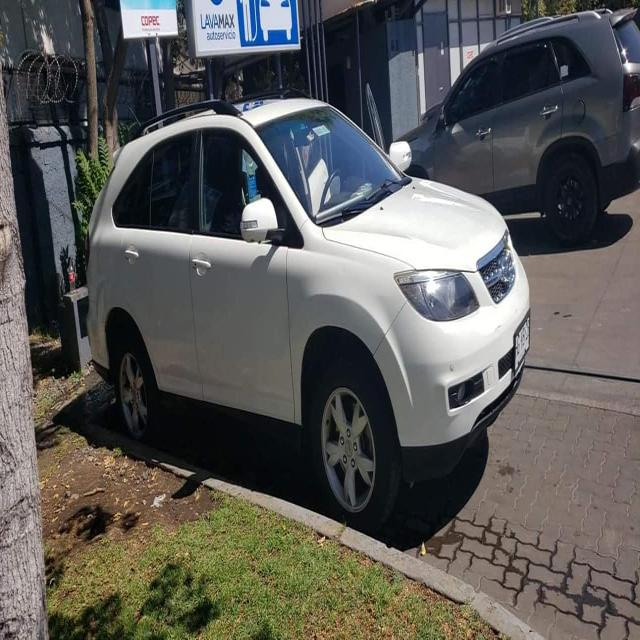patente: (513, 308, 531, 378)
